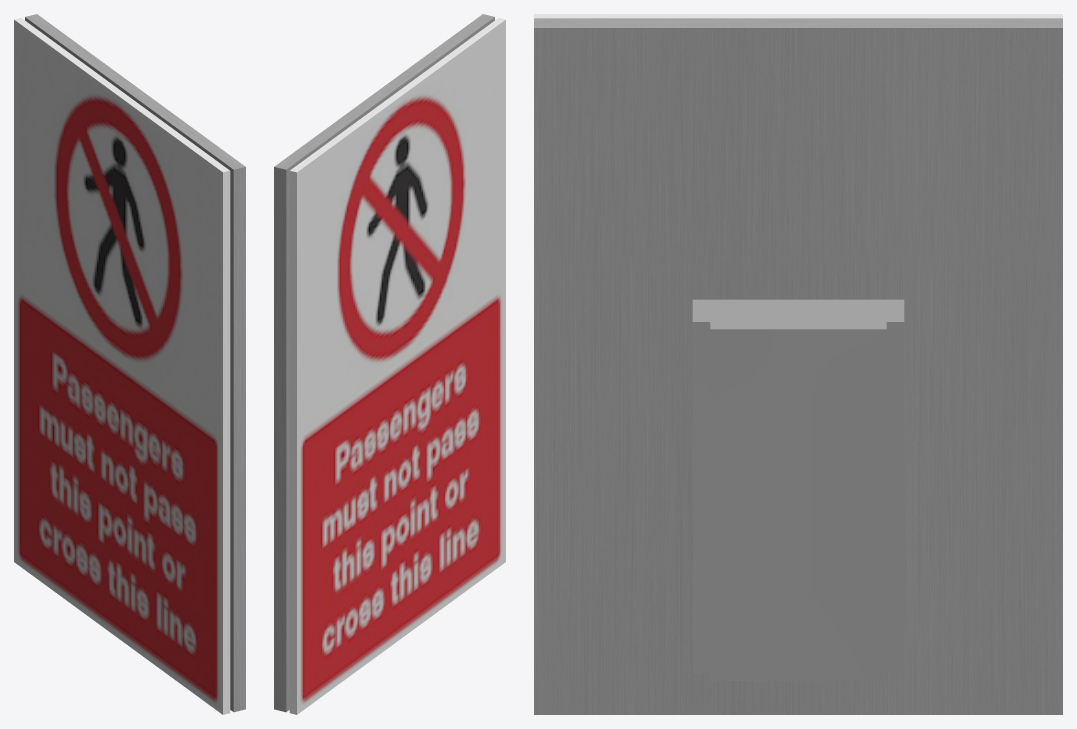
Rendered from do_not_cross.obj.
The picture shows the model from 3 angles, left to right: view 1: azimuth 30°, elevation 25°; view 2: azimuth 150°, elevation 25°; view 3: azimuth 270°, elevation 25°; orthographic projection. The views are drawn at different scales.
Visible parts, largest first — view 1: cube; view 2: cube; view 3: cube.
Boxes of the visible parts, <box> form: cube: <box>14,14,245,714</box>; cube: <box>274,14,505,714</box>; cube: <box>534,14,1062,714</box>.
Bounding box in the file's own units: 0.0922 × 0.6719 × 0.4688.
Materials: 2 (2 with a texture image).
